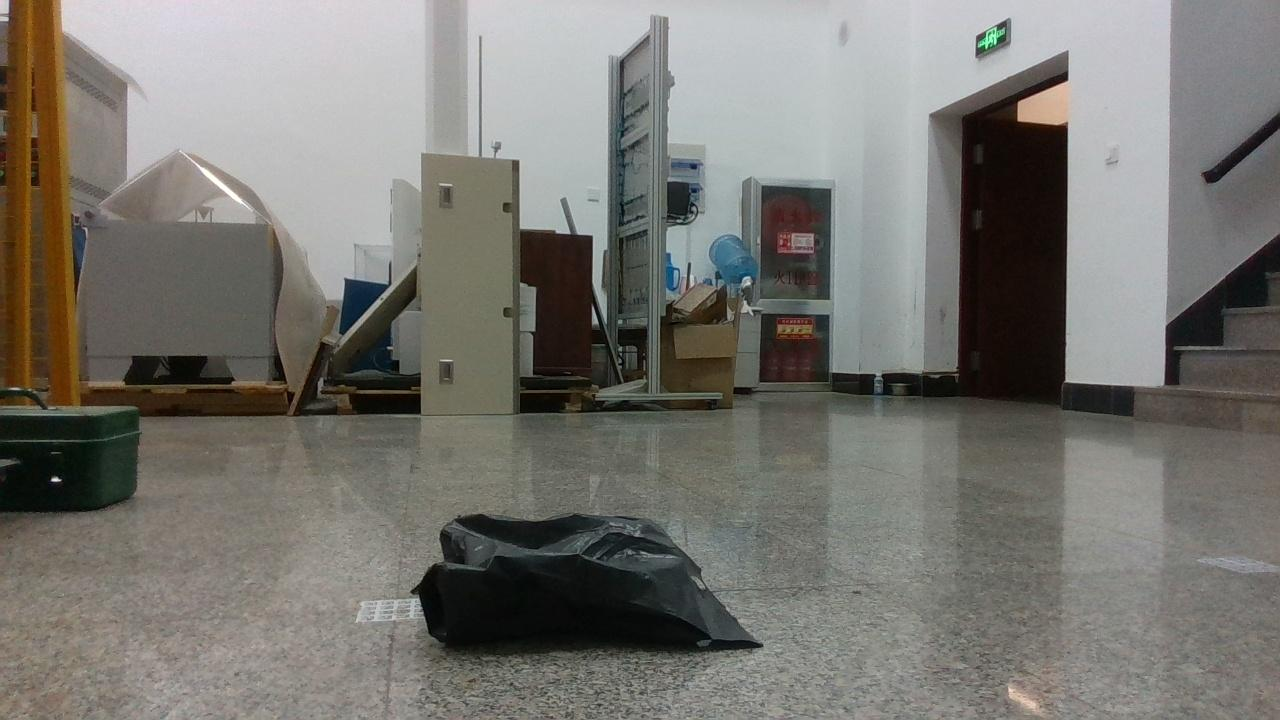package: (409, 512, 765, 648)
